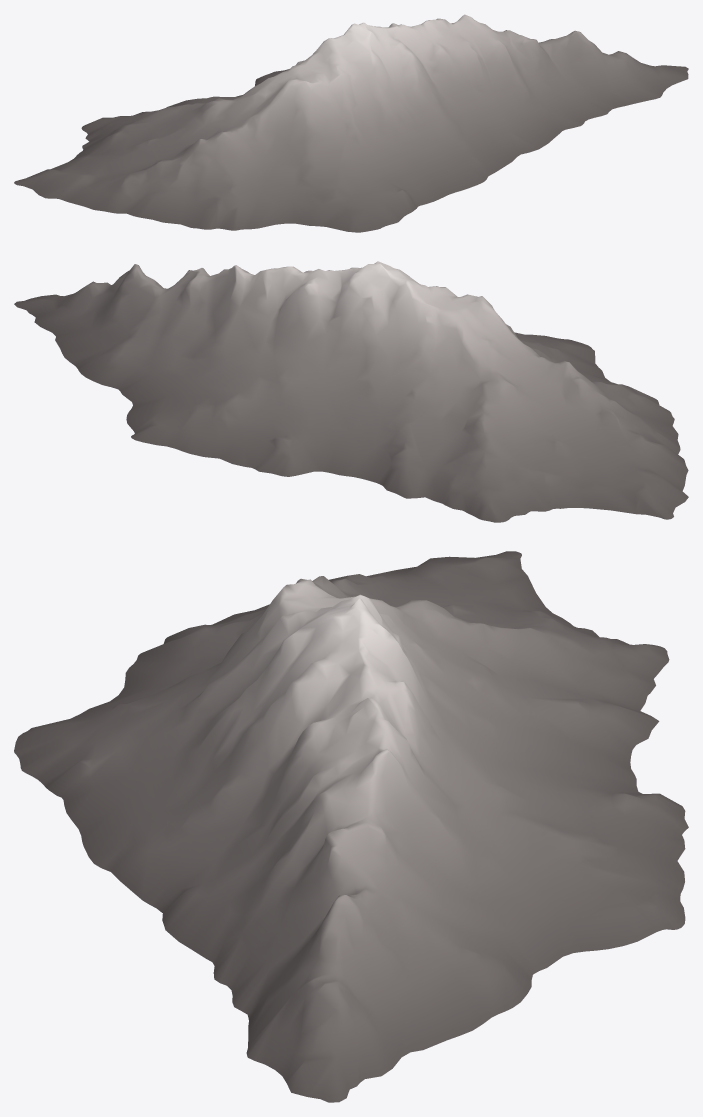
Rendered from Mountain_06.glb.
3 renders of one model, top to bottom at view 1: azimuth 30°, elevation 25°; view 2: azimuth 150°, elevation 25°; view 3: azimuth 270°, elevation 25°, orthographic. The views are drawn at different scales.
Parts seen in each view (by area): view 1: Mountain_06; view 2: Mountain_06; view 3: Mountain_06.
Part boxes in pixels (<box>): Mountain_06: <box>14,14,688,232</box>; Mountain_06: <box>14,261,688,522</box>; Mountain_06: <box>14,551,688,1102</box>.
Size of the model in its own units: 79.42 by 14.49 by 41.08.
Materials: 1 (1 with a texture image).
